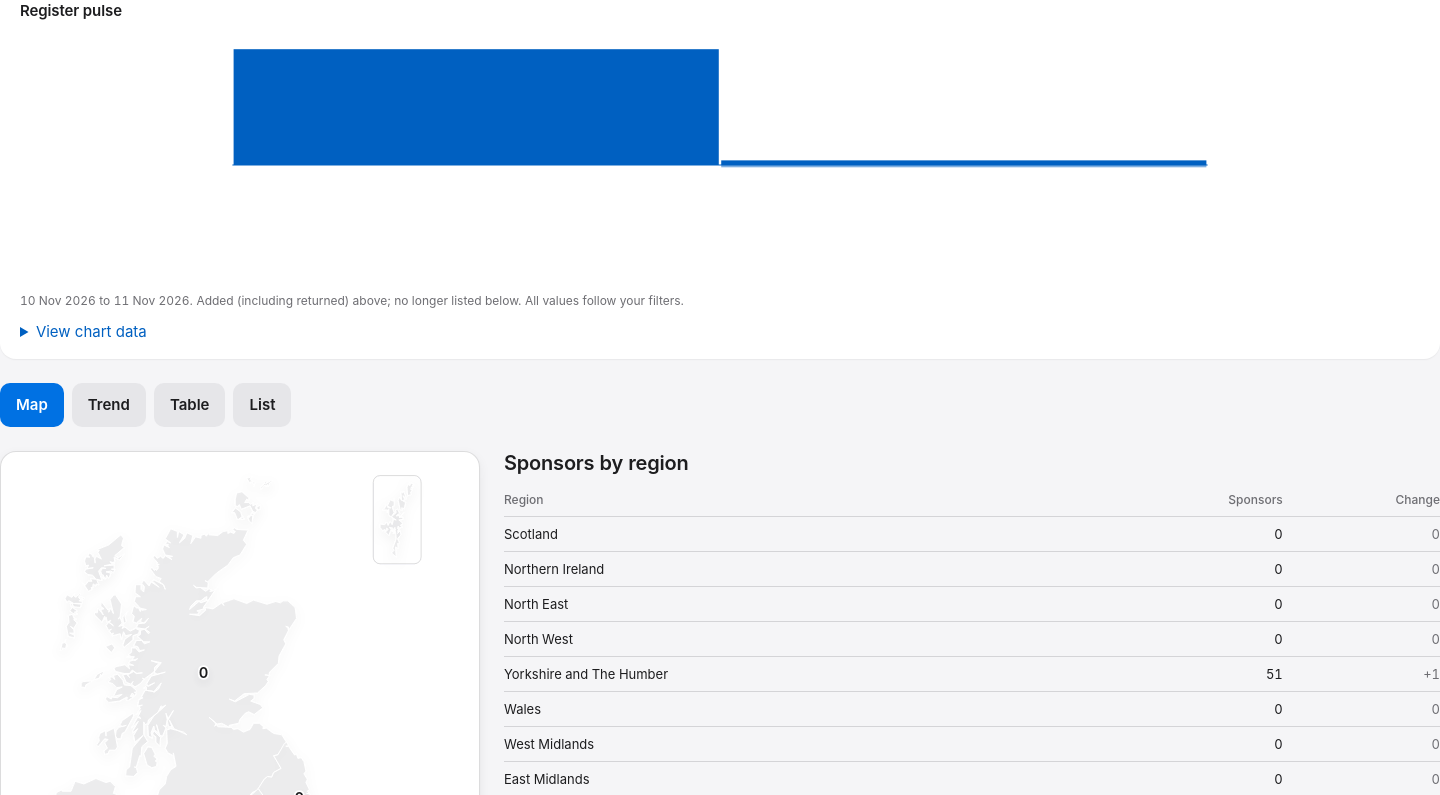
Test: RegisterExplorer › explains no matches and disables pagination
(page scrolled)
What coordinates should you click on to do the following:
click the button "Table"
I would click on:
 (190, 405)
Its box is [154, 383, 226, 427].
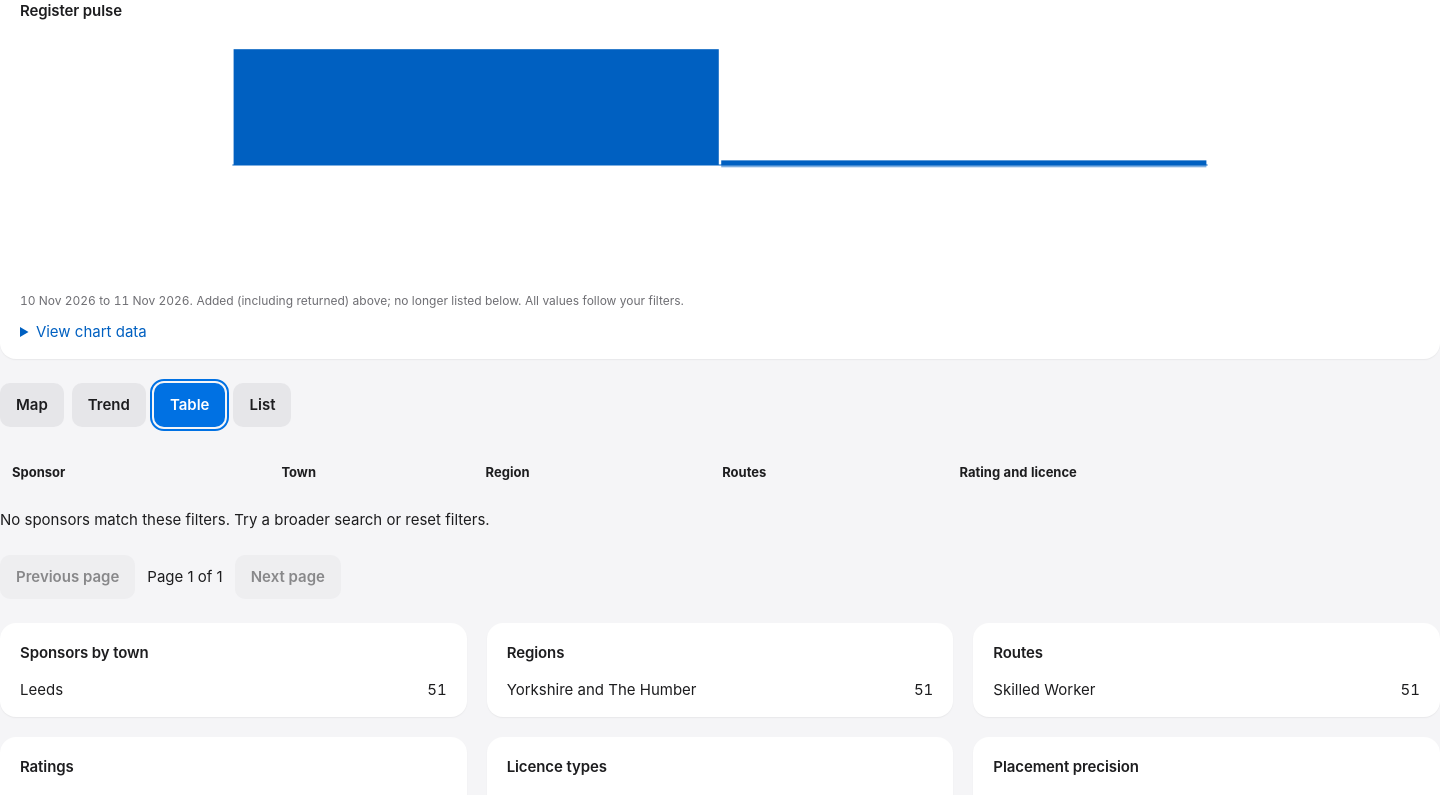
Expected: the button "Next page" is disabled, [235, 555, 341, 599]
